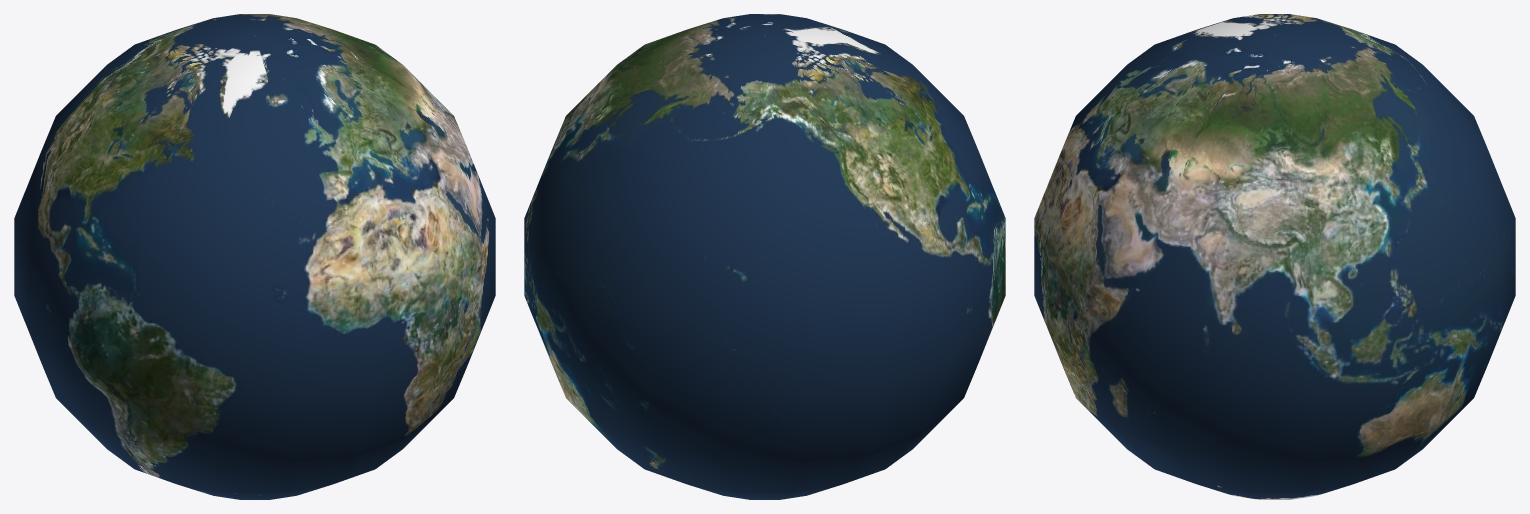
The model's file is diqiu.FBX.
3 views of the same model, side by side, from view 1: azimuth 30°, elevation 25°; view 2: azimuth 150°, elevation 25°; view 3: azimuth 270°, elevation 25° (orthographic).
Parts seen in each view (by area): view 1: Sphere001; view 2: Sphere001; view 3: Sphere001.
Boxes of the visible parts, left/top/right/bottom form: Sphere001: left=14, top=14, right=495, bottom=499; Sphere001: left=524, top=14, right=1005, bottom=499; Sphere001: left=1034, top=14, right=1515, bottom=499.
Size of the model in its own units: 10.21 by 10.53 by 10.37.
